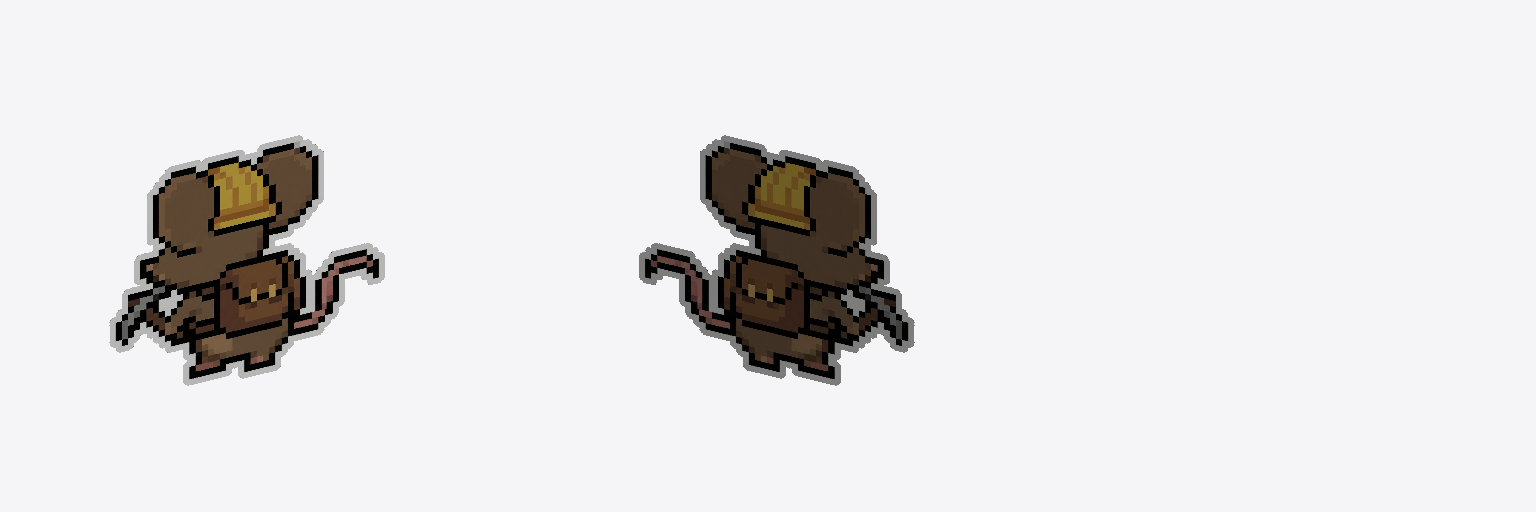
The picture shows the model from 3 angles: view 1: azimuth 30°, elevation 25°; view 2: azimuth 150°, elevation 25°; view 3: azimuth 270°, elevation 25°; orthographic projection.
Parts seen in each view (by area): view 1: ally_back; view 2: ally_back; view 3: none.
Part boxes in pixels (bbox=[...]): ally_back: bbox=[109, 135, 384, 385]; ally_back: bbox=[639, 135, 914, 385].
Bounding box in the file's own units: 1.12 × 1 × 0.
1 materials, 1 textured.